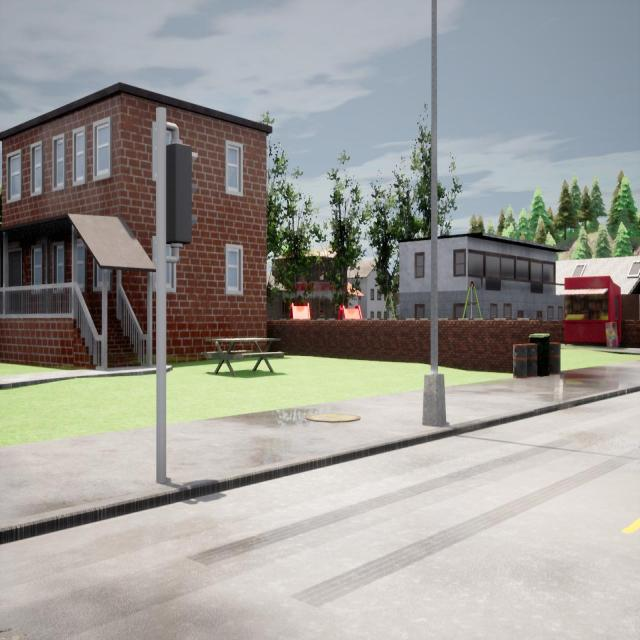traffic_light: (167, 143, 197, 244)
